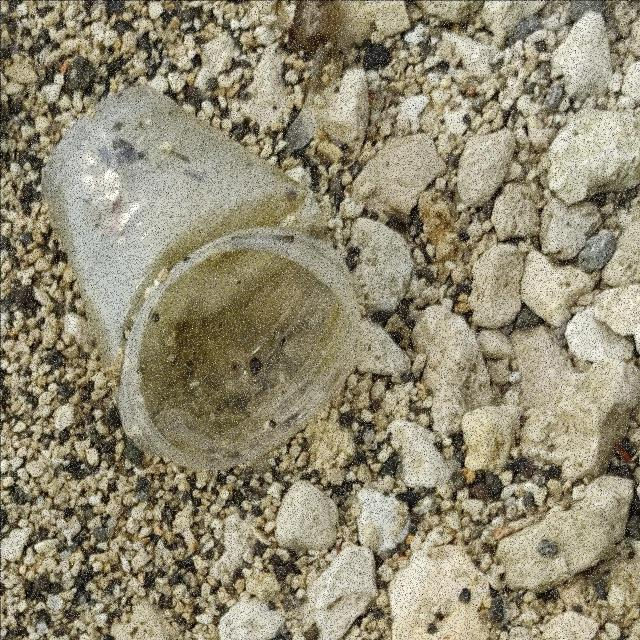plastic_waste: (39, 80, 364, 476)
